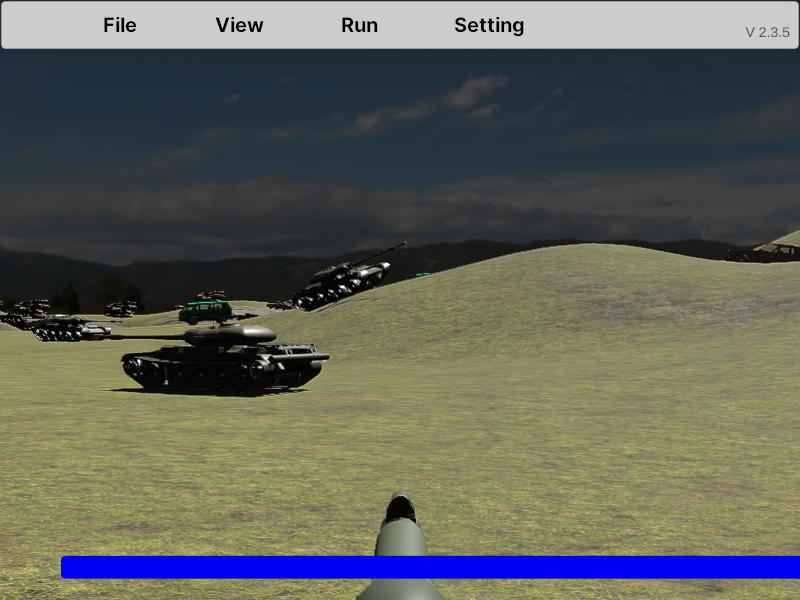Tank: (90, 324, 329, 393), (295, 240, 408, 310), (25, 314, 123, 343)
car: (178, 301, 232, 325)
